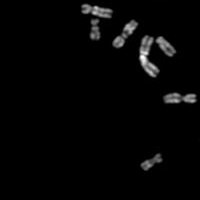chromosome: (139, 36, 159, 78), (114, 19, 138, 48), (81, 4, 112, 18), (156, 37, 176, 57), (140, 153, 161, 170), (163, 93, 196, 103), (90, 18, 100, 39)
